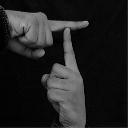hand: (40, 27, 87, 127), (0, 9, 90, 59)
